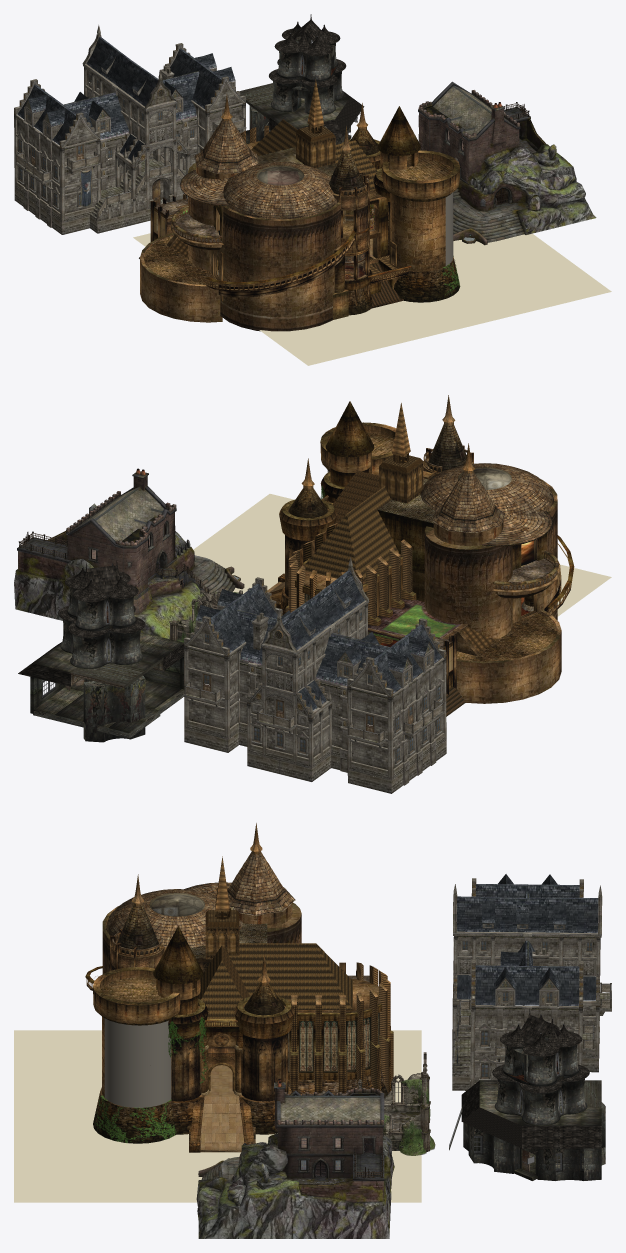
3 renders of one model, top to bottom at view 1: azimuth 30°, elevation 25°; view 2: azimuth 150°, elevation 25°; view 3: azimuth 270°, elevation 25°, orthographic. The views are drawn at different scales.
Parts seen in each view (by area): view 1: Castle 321 prims, DrawCall10 (×3), Terrain 1,7, BeauRoche House (×3), Castle angle hostel strong black, Beau Roche House, 237p balcony support, Medi-Rathaus2-21-9-14; view 2: Castle 321 prims, DrawCall10 (×3), Castle angle hostel strong black, BeauRoche House (×3), Terrain 1,7, Beau Roche House, Medi-Rathaus2-21-9-14, 237p balcony support, 237p castle part 2, TLG - Chapel Ruins; view 3: Castle 321 prims, DrawCall10 (×2), Terrain 1,7, Castle angle hostel strong black, Beau Roche House, BeauRoche House (×4), TLG - Chapel Ruins (×2), Medi-Rathaus2-21-9-14, 237p castle part 2.
Boxes of the visible parts, x1,y1,x2,y2 form: Castle 321 prims: [139, 79, 460, 331]; DrawCall10 (×3): [14, 25, 246, 234]; Terrain 1,7: [133, 233, 611, 365]; BeauRoche House (×3): [418, 81, 546, 245]; Castle angle hostel strong black: [239, 14, 364, 144]; Beau Roche House: [469, 138, 596, 234]; 237p balcony support: [173, 212, 221, 250]; Medi-Rathaus2-21-9-14: [19, 69, 224, 206]; Castle 321 prims: [267, 395, 574, 716]; DrawCall10 (×3): [184, 557, 446, 793]; Castle angle hostel strong black: [18, 559, 184, 742]; BeauRoche House (×3): [17, 468, 244, 614]; Terrain 1,7: [193, 494, 611, 664]; Beau Roche House: [14, 530, 204, 639]; Medi-Rathaus2-21-9-14: [204, 603, 440, 761]; 237p balcony support: [495, 558, 556, 598]; 237p castle part 2: [433, 520, 503, 545]; TLG - Chapel Ruins: [177, 590, 213, 640]; Castle 321 prims: [85, 823, 393, 1152]; DrawCall10 (×2): [452, 874, 611, 1090]; Terrain 1,7: [14, 1030, 421, 1202]; Castle angle hostel strong black: [449, 1008, 605, 1180]; Beau Roche House: [196, 1133, 394, 1238]; BeauRoche House (×4): [198, 1078, 384, 1202]; TLG - Chapel Ruins (×2): [384, 1073, 426, 1155]; Medi-Rathaus2-21-9-14: [462, 924, 591, 1077]; 237p castle part 2: [239, 903, 292, 927].
Size of what is drawn, in the model's own units: 90.44 by 42.01 by 93.89.
367 materials, 366 textured.
